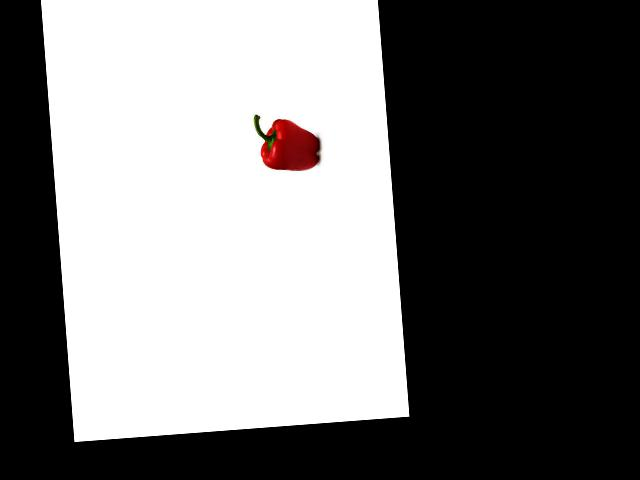bell_pepper: (249, 108, 325, 177)
